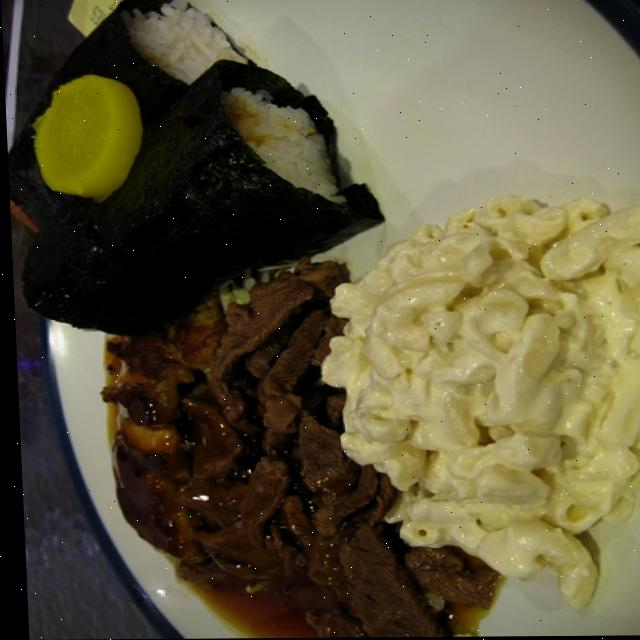寿司卷物: (7, 4, 370, 340)
